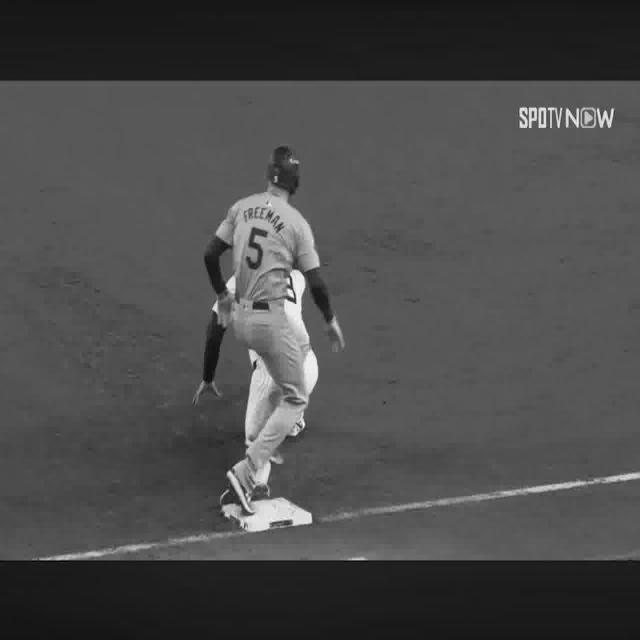base: (221, 497, 312, 532)
shoe: (226, 462, 255, 513), (219, 487, 239, 507), (252, 483, 271, 502)
